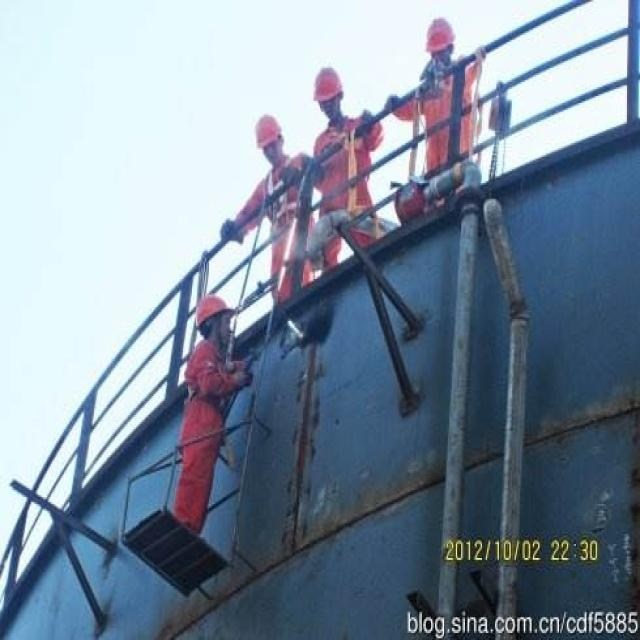helmet: (191, 388, 234, 463), (313, 87, 348, 168), (422, 16, 456, 91), (251, 150, 286, 222)
